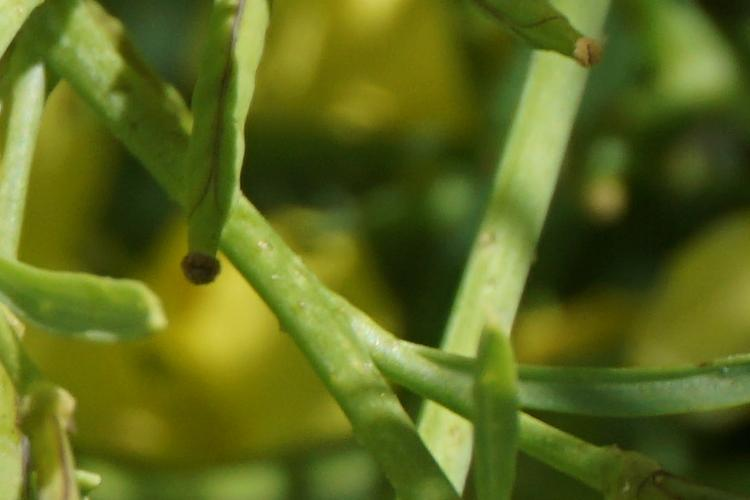bud: (8, 266, 172, 365), (446, 336, 534, 483)
pod: (176, 12, 271, 295), (488, 15, 622, 77)
